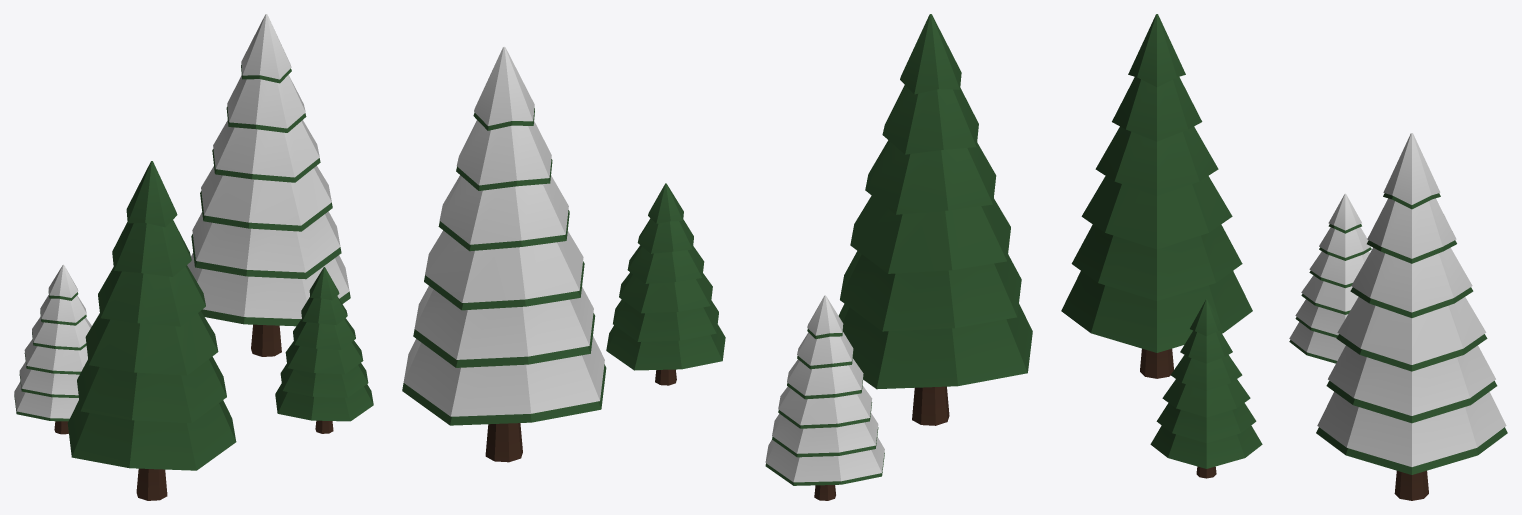
Rendered from PineTrees.fbx.
The picture shows the model from 3 angles, left to right: view 1: azimuth 30°, elevation 25°; view 2: azimuth 150°, elevation 25°; view 3: azimuth 270°, elevation 25°; orthographic projection. The views are drawn at different scales.
Visible parts, largest first — view 1: PineTreeLeaves (×2), PineTreeSnow, PineTreeLeaves1 (×2), PineTreeLeaves2, PineTreeTrunk (×2); view 2: PineTreeLeaves (×2), PineTreeSnow, PineTreeLeaves1 (×2), PineTreeLeaves2, PineTreeTrunk (×2); view 3: PineTreeLeaves (×2), PineTreeSnow, PineTreeLeaves1 (×2), PineTreeLeaves2, PineTreeTrunk (×2).
Boxes of the visible parts, x1=… form: PineTreeLeaves (×2): x1=67, y1=64, x2=350, y2=470; PineTreeSnow: x1=187, y1=14, x2=349, y2=318; PineTreeLeaves1 (×2): x1=14, y1=267, x2=373, y2=421; PineTreeLeaves2: x1=14, y1=264, x2=91, y2=418; PineTreeTrunk (×2): x1=136, y1=324, x2=281, y2=500; PineTreeLeaves (×2): x1=402, y1=14, x2=1032, y2=425; PineTreeSnow: x1=403, y1=46, x2=604, y2=416; PineTreeLeaves1 (×2): x1=606, y1=183, x2=884, y2=485; PineTreeLeaves2: x1=765, y1=295, x2=884, y2=482; PineTreeTrunk (×2): x1=485, y1=386, x2=949, y2=462; PineTreeLeaves (×2): x1=1061, y1=14, x2=1507, y2=474; PineTreeSnow: x1=1317, y1=133, x2=1506, y2=466; PineTreeLeaves1 (×2): x1=1150, y1=224, x2=1371, y2=468; PineTreeLeaves2: x1=1289, y1=193, x2=1370, y2=360; PineTreeTrunk (×2): x1=1140, y1=348, x2=1428, y2=500.
Size of the model in its own units: 6.09 by 4.97 by 5.58.
